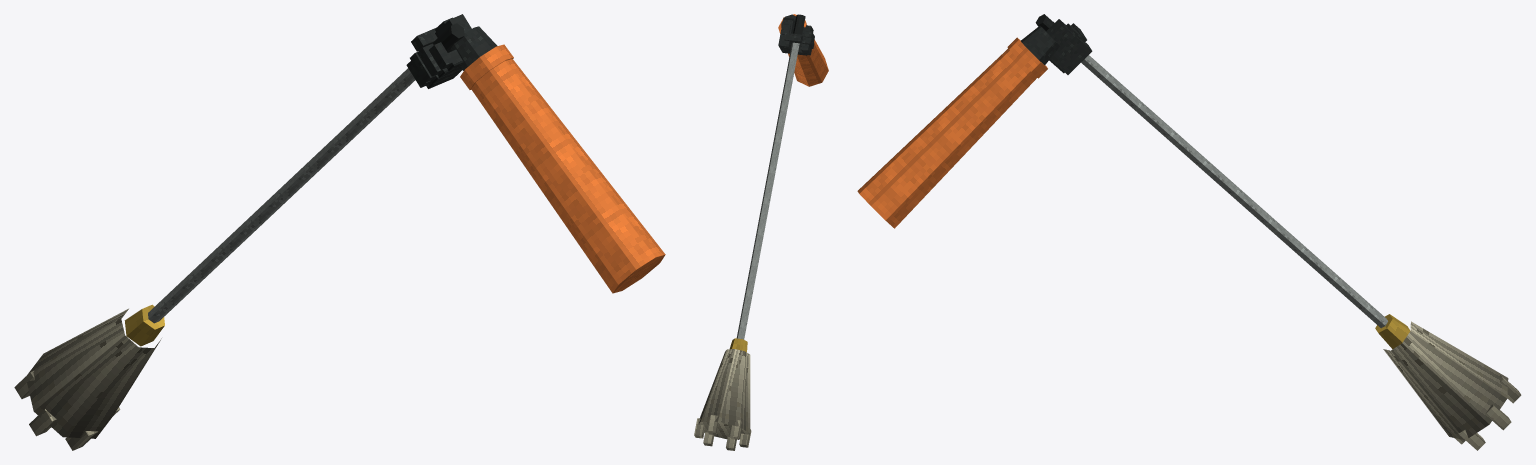
File: vm_mop.glb
3 renders of one model, left to right at view 1: azimuth 30°, elevation 25°; view 2: azimuth 150°, elevation 25°; view 3: azimuth 270°, elevation 25°, orthographic. The views are drawn at different scales.
Parts seen in each view (by area): view 1: Arms, Item; view 2: Item, Arms; view 3: Item, Arms.
Part boxes in pixels (x1,y1,x2,y2): Arms: (406,14,665,293); Item: (14,23,464,450); Item: (694,14,805,450); Arms: (778,14,828,86); Item: (1035,14,1521,450); Arms: (857,19,1092,228).
Bounding box in the file's own units: 0.5295 × 1.07 × 1.34.
6 materials, 6 textured.
